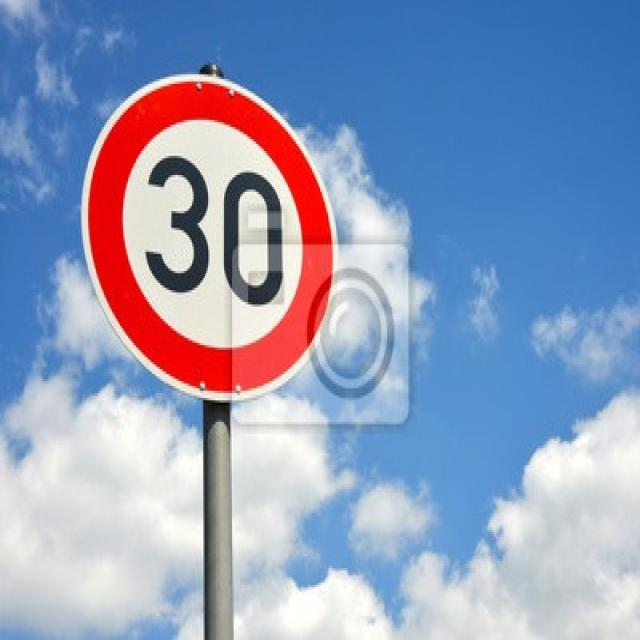Speed Limit -30-: (143, 154, 286, 307)
